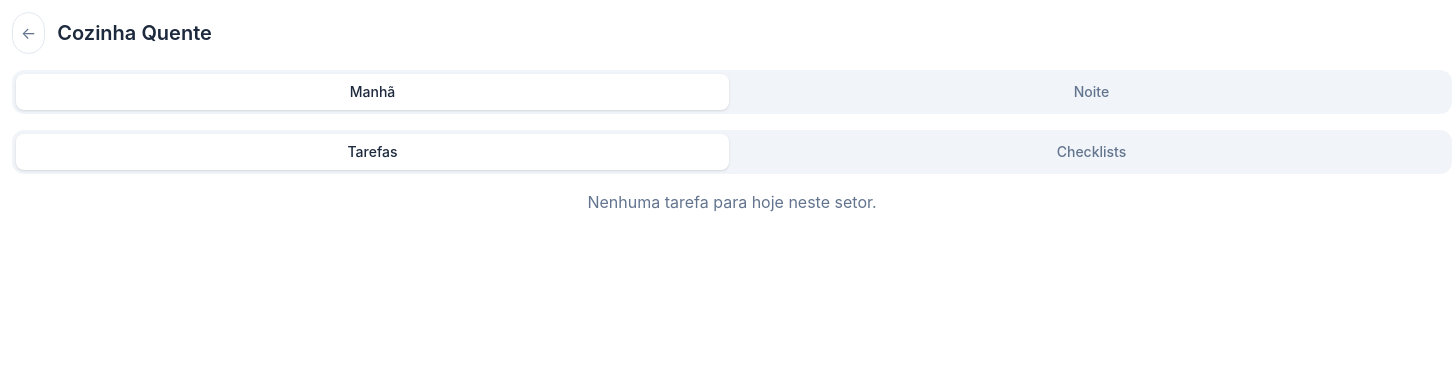
Test: SectorView › checklist de outro turno não aparece nas colunas, mesmo turno errado selecionado
Click the button "Checklists": (1092, 152) [735,134,1448,170]
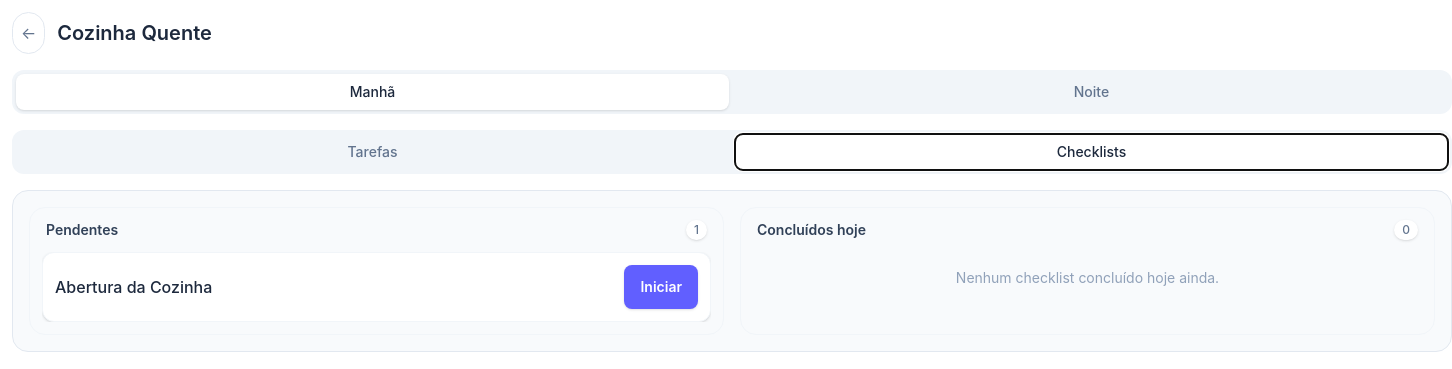
expect the text "Fechamento Noturno" is not shown: met
expect the text "Abertura da Cozinha" is shown: met, box [55,275,212,299]
Click the button "Noite": (1092, 92) [735,74,1448,110]
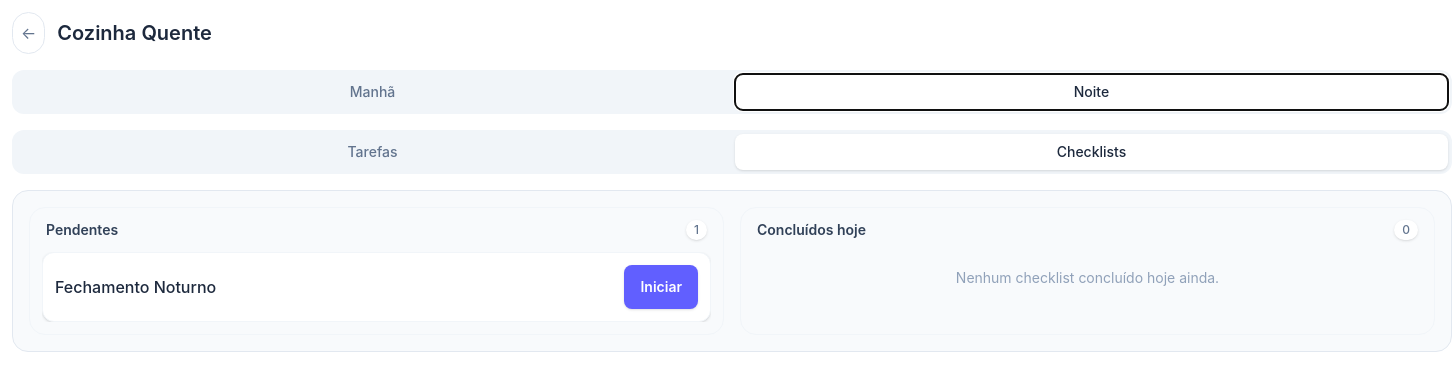
expect the text "Fechamento Noturno" is shown: met, box [55,275,216,299]
expect the text "Abertura da Cozinha" is gone: met
